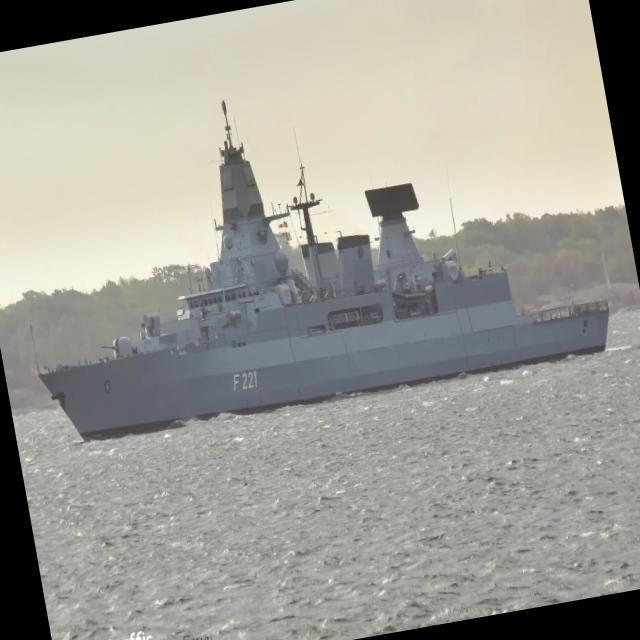Military: (35, 103, 608, 438)
